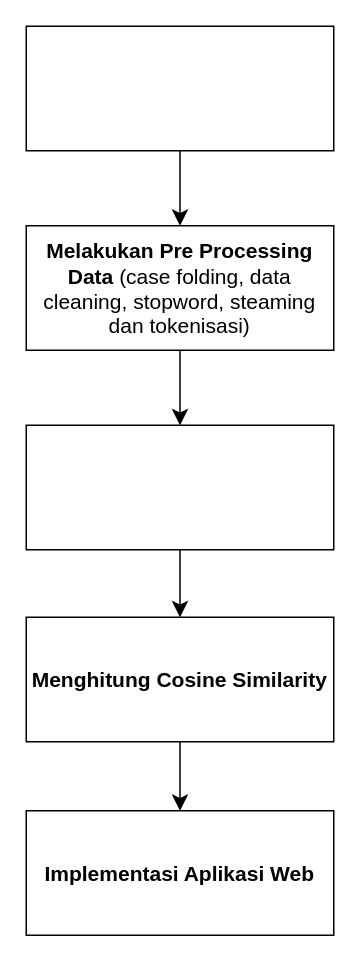
Some shapes in this 360 by 962 pixel diagram are drawn without their labels. The shapes that lost their labels are listed below. From the top down, each one's centre as x and y in pixels, then its label:
At (x=179, y=88): "Pengumpulan data".
At (x=179, y=487): "Implementasi Content-Based Filltering".
